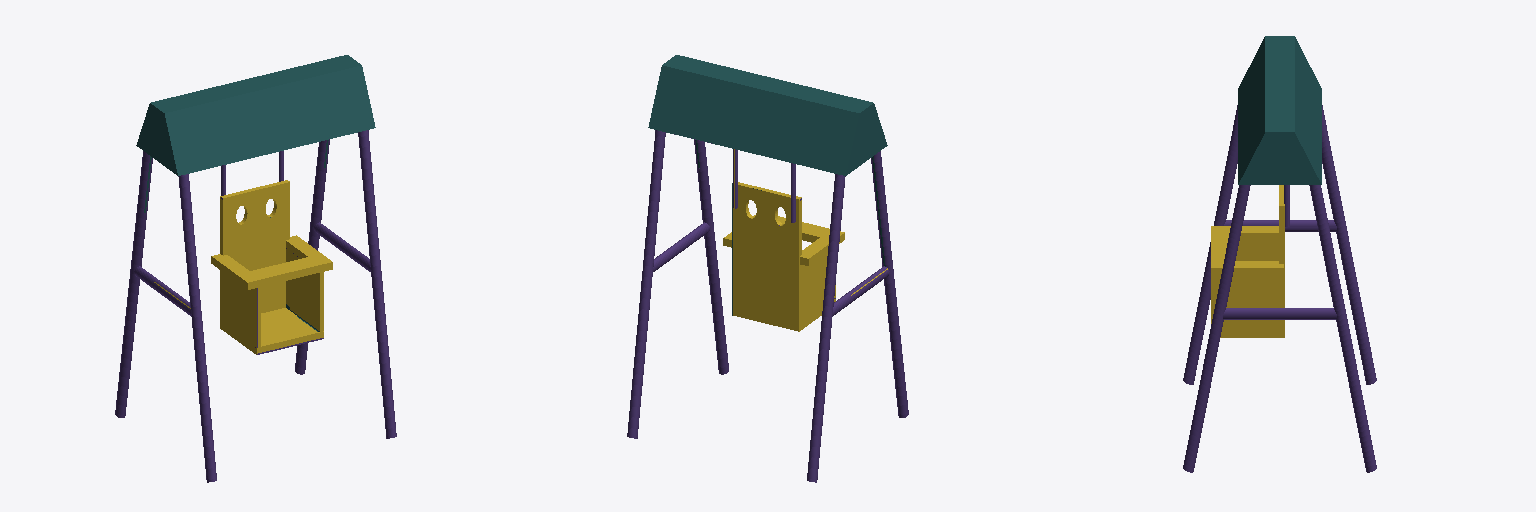
The picture shows the model from 3 angles: view 1: azimuth 30°, elevation 25°; view 2: azimuth 150°, elevation 25°; view 3: azimuth 270°, elevation 25°; orthographic projection.
Parts seen in each view (by area): view 1: Cube.014_Cube.021; view 2: Cube.014_Cube.021; view 3: Cube.014_Cube.021.
Boxes of the visible parts, x1,y1,x2,y2 form: Cube.014_Cube.021: [115, 55, 396, 482]; Cube.014_Cube.021: [627, 55, 908, 482]; Cube.014_Cube.021: [1183, 36, 1376, 472].
Bounding box in the file's own units: 8.61 × 14.33 × 7.32.
1 materials, 1 textured.